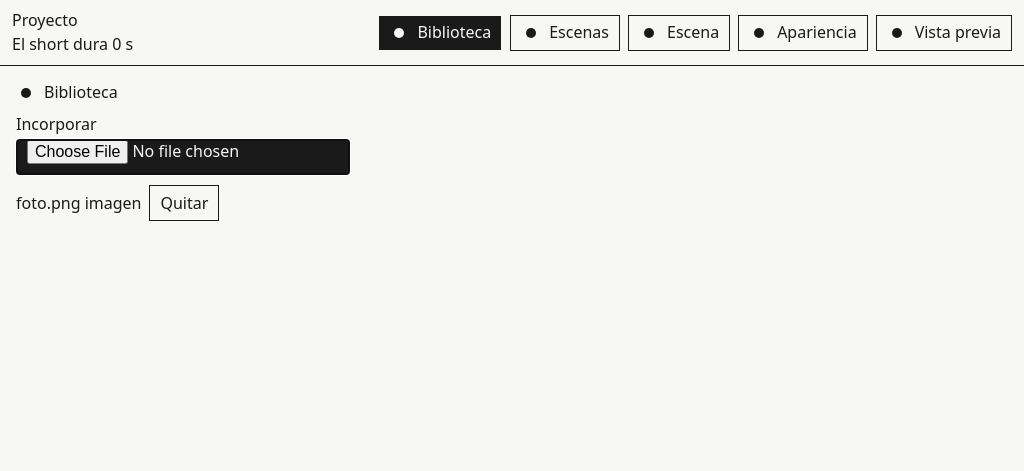
el cuadro de Escena mide 120 px de ancho, conserva la proporción del short y queda al lado de los datos
The image size is (1024, 471).
Earlier steps of the test are not shown.
Click the button "Escenas": (565, 33) [510,15,620,51]
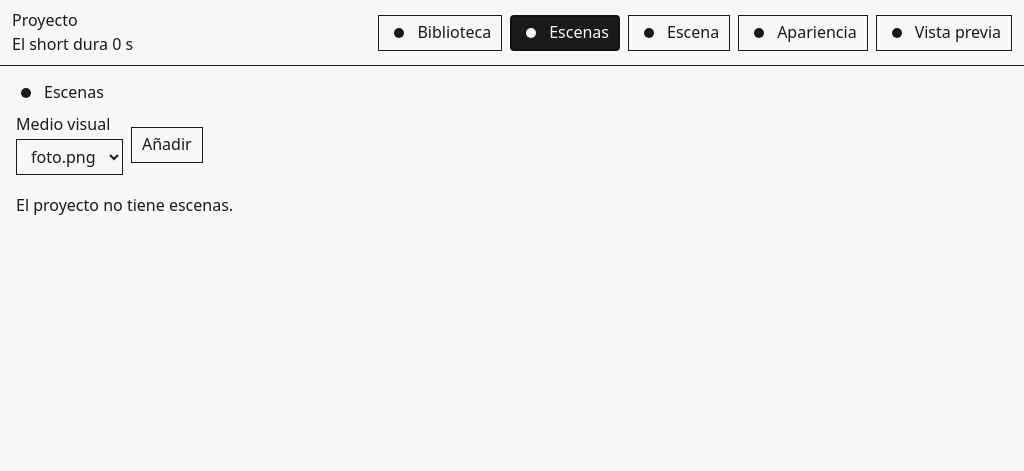
Click the button "Añadir": (167, 145) [131,127,203,163]
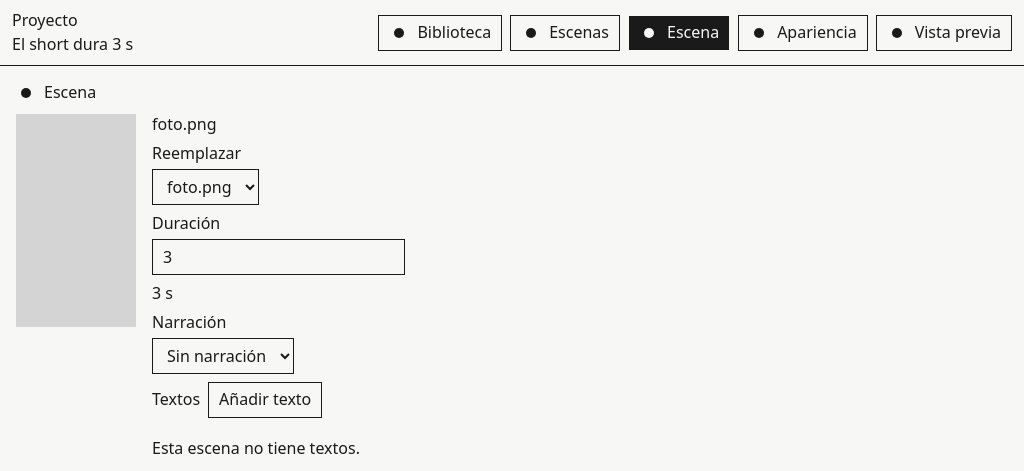
Expected: the text "foto.png" is shown, [152,113,216,135]
Expected: the number field labelled "Duración" is shown, [152,239,405,275]
